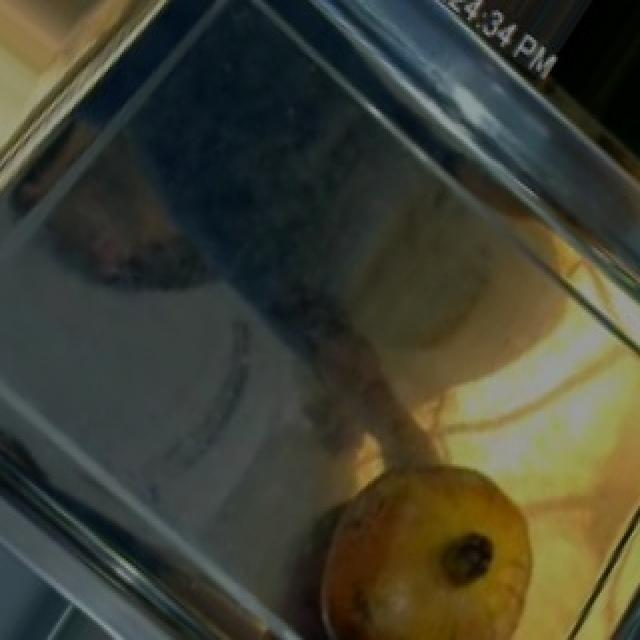fruit: (296, 429, 566, 640)
